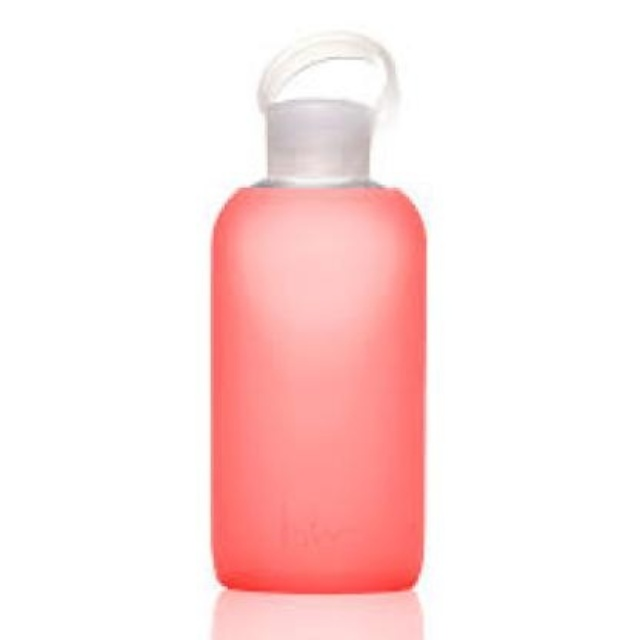trash: (212, 32, 425, 591)
